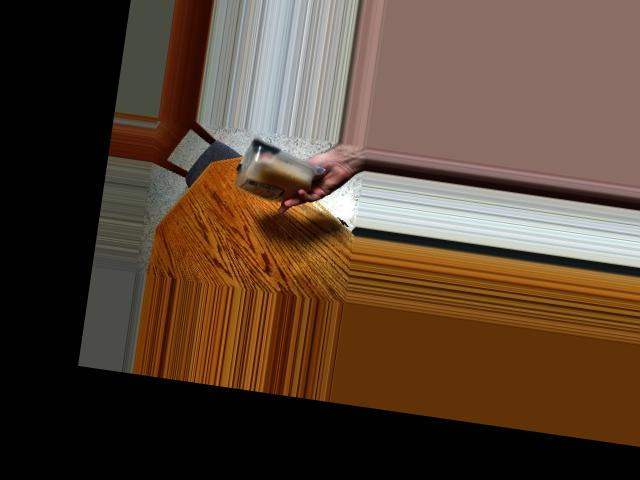cheese: (229, 137, 319, 210)
